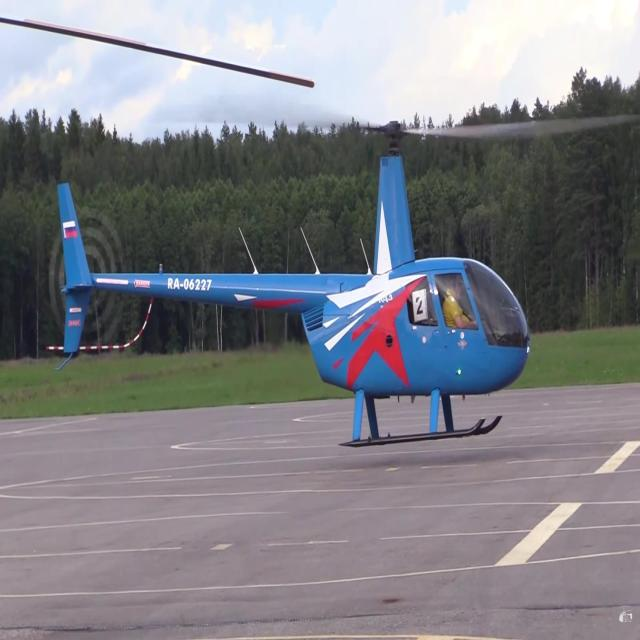CIV_HELO: (55, 122, 531, 450)
